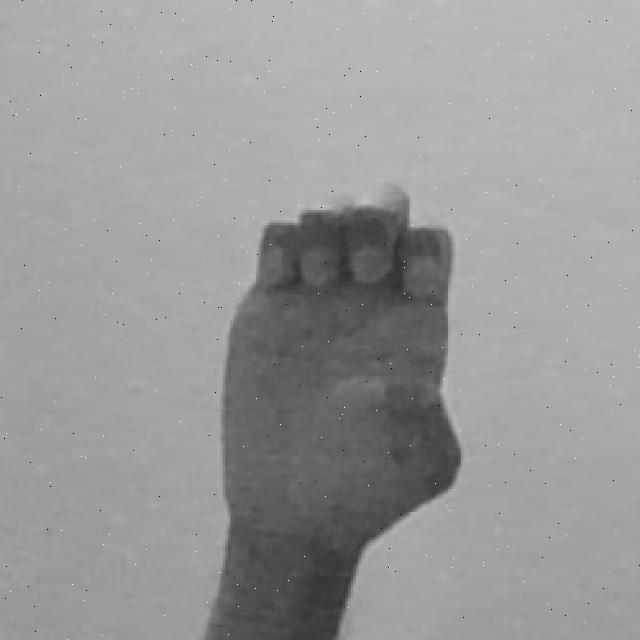E: (199, 178, 461, 640)
